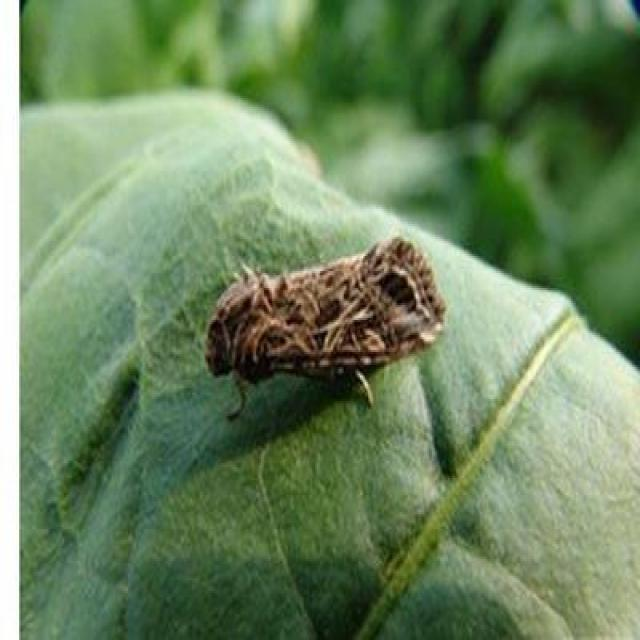BeetArmyWorm-Adult-: (187, 229, 460, 424)
